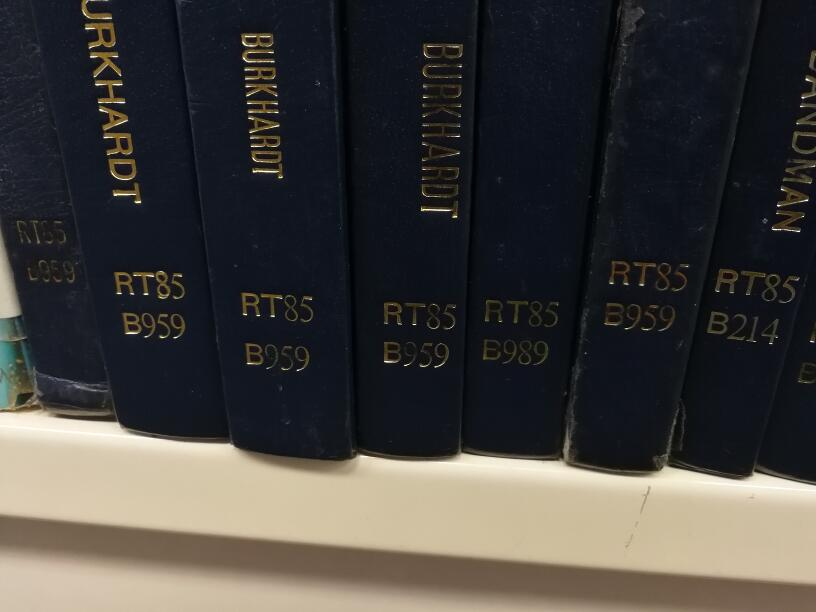booklabel: (704, 261, 806, 349), (601, 255, 692, 339), (234, 288, 317, 375), (376, 297, 462, 374), (477, 294, 563, 371), (109, 267, 192, 344), (11, 215, 79, 288)
